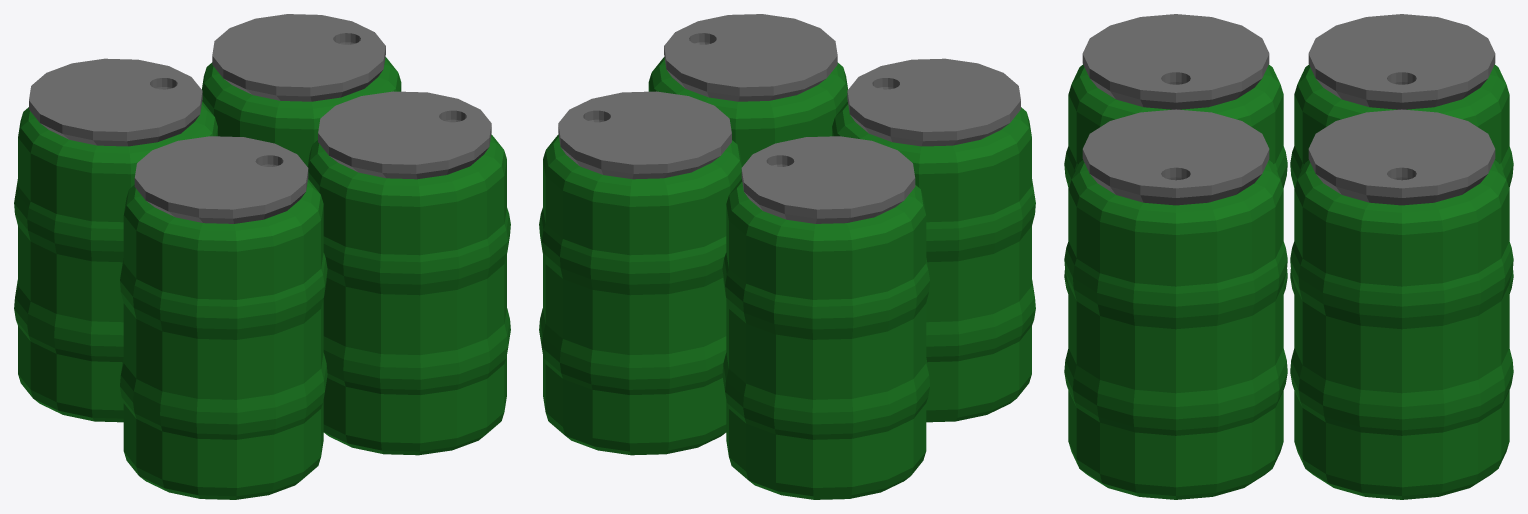
The model's file is Keg_StackB.fbx.
3 renders of one model, left to right at view 1: azimuth 30°, elevation 25°; view 2: azimuth 150°, elevation 25°; view 3: azimuth 270°, elevation 25°, orthographic. The views are drawn at different scales.
Parts seen in each view (by area): view 1: KegC; view 2: KegC; view 3: KegC.
Part boxes in pixels (x1,y1,x2,y2): KegC: (14,14,510,499); KegC: (539,14,1035,499); KegC: (1064,14,1513,499).
Size of the model in its own units: 418 by 320 by 418.
